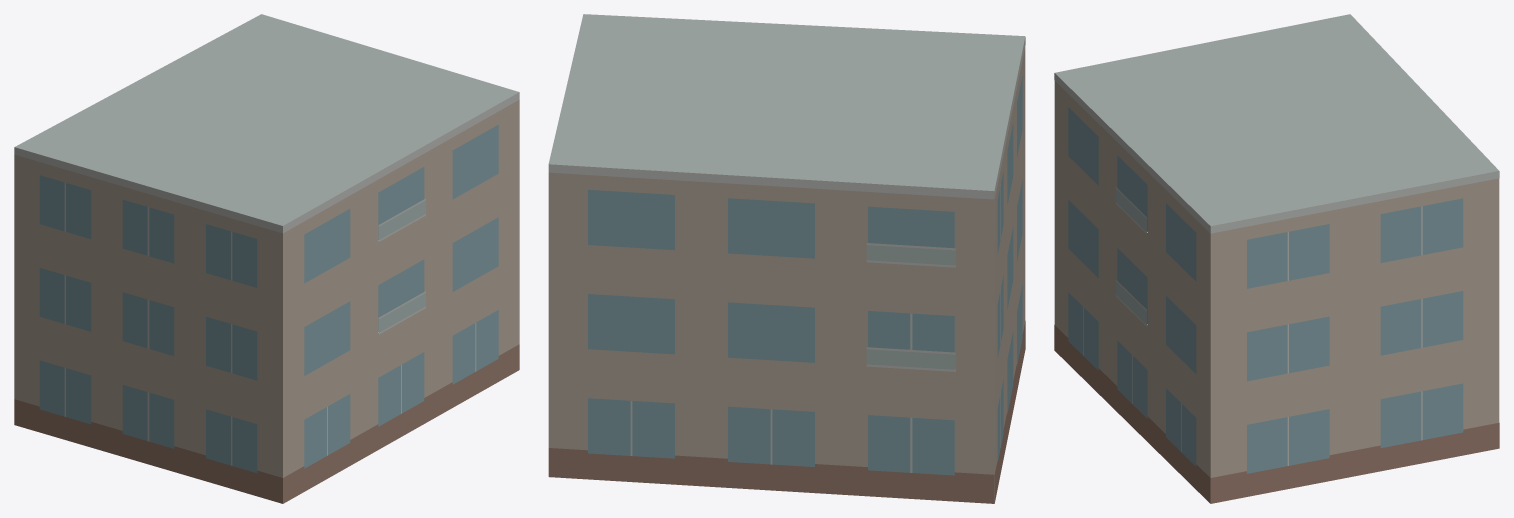
Rendered from survey-upis-32623120.glb.
The picture shows the model from 3 angles, left to right: view 1: azimuth 30°, elevation 25°; view 2: azimuth 150°, elevation 25°; view 3: azimuth 270°, elevation 25°; orthographic projection. The views are drawn at different scales.
Visible parts, largest first — view 1: survey-upis-32623120.tmp; view 2: survey-upis-32623120.tmp; view 3: survey-upis-32623120.tmp.
Part boxes in pixels (bbox=[...]): survey-upis-32623120.tmp: bbox=[14, 14, 519, 503]; survey-upis-32623120.tmp: bbox=[548, 14, 1025, 503]; survey-upis-32623120.tmp: bbox=[1054, 14, 1499, 503].
Bounding box in the file's own units: 15.01 × 9.15 × 13.3.
